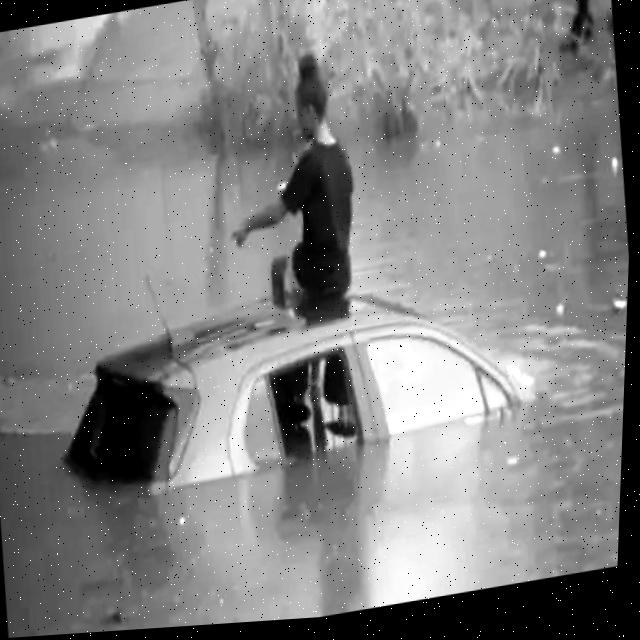civilian: (200, 36, 415, 352)
